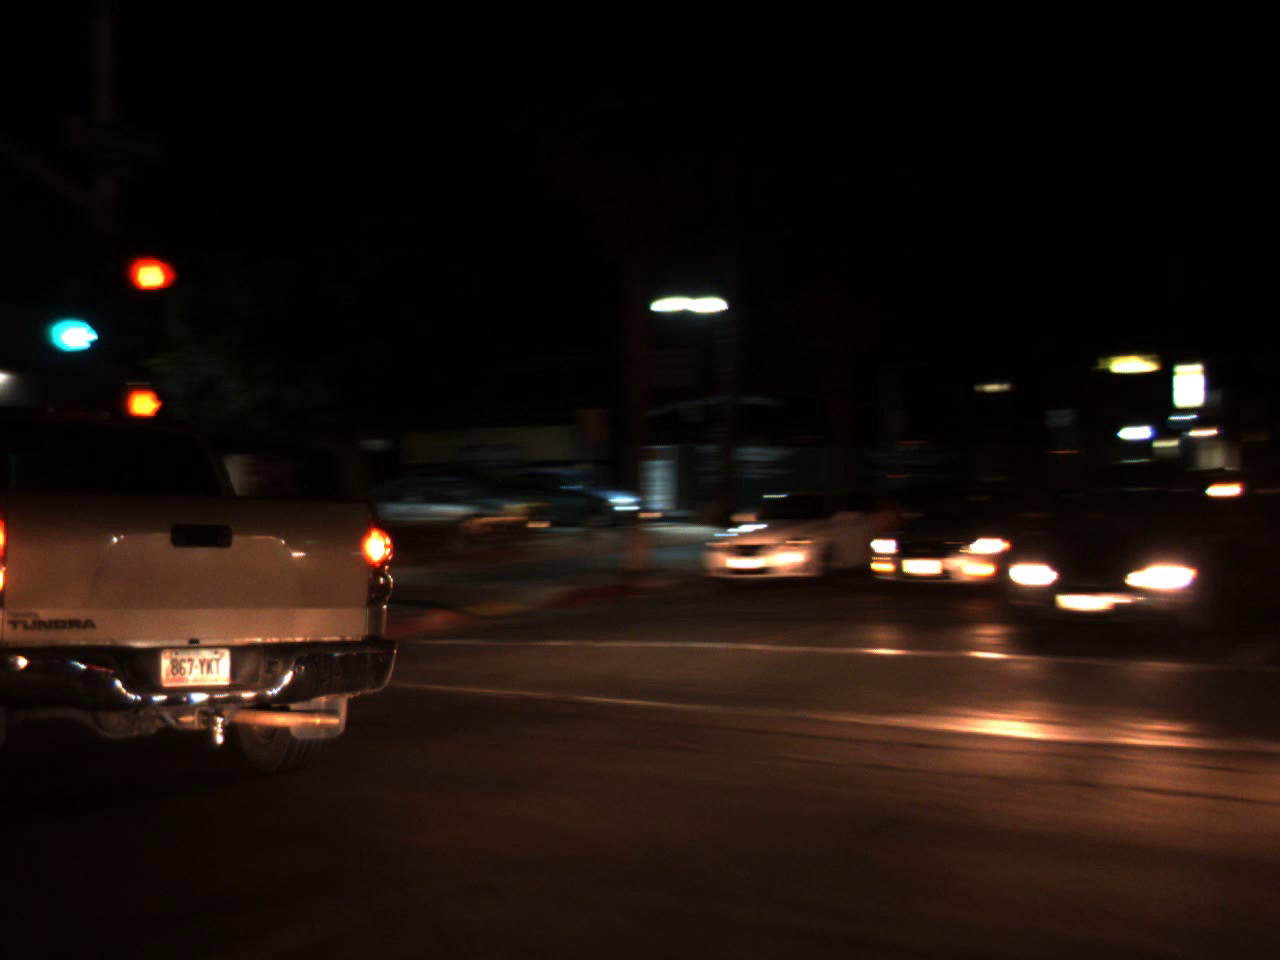go: (43, 296, 106, 359)
